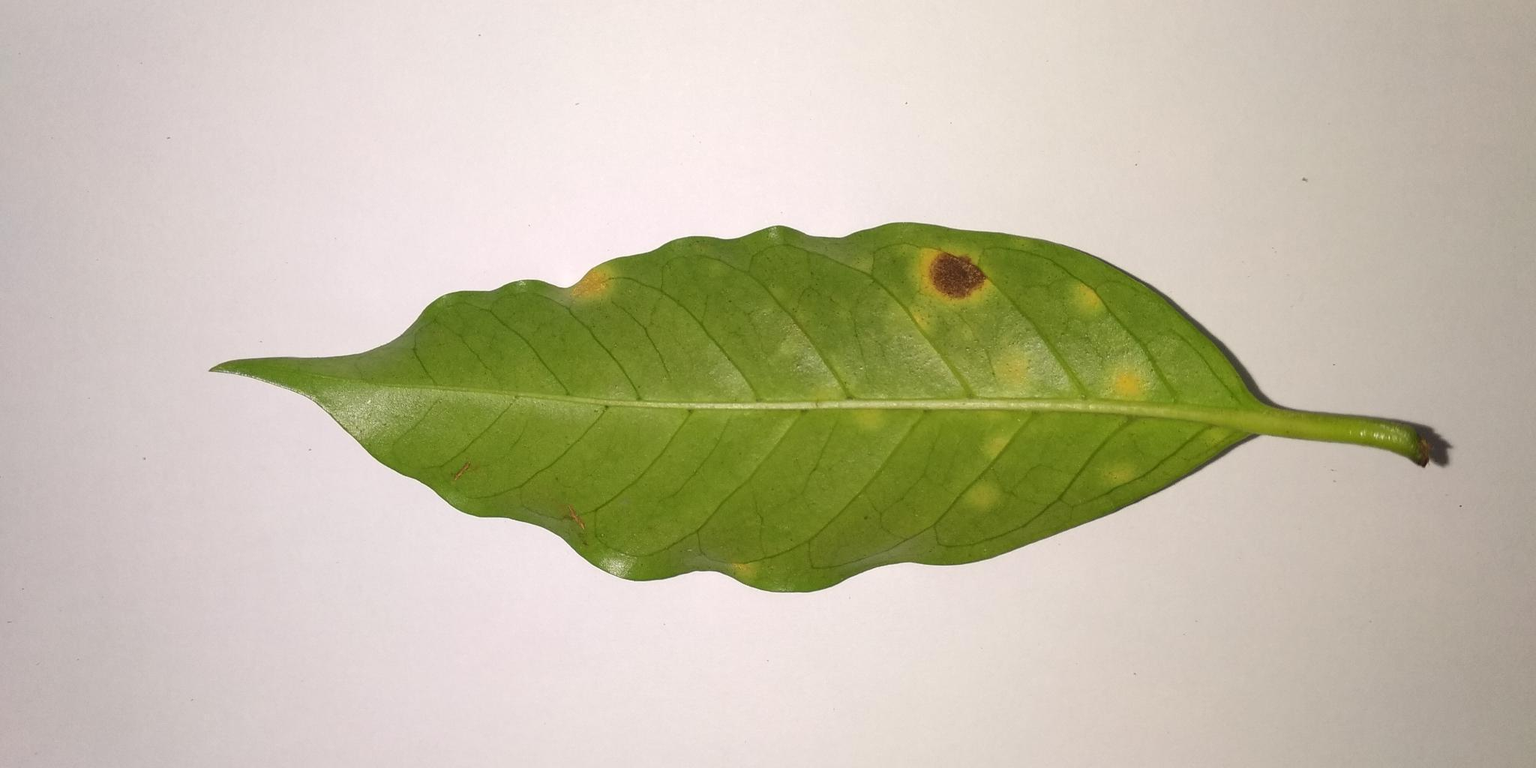Cercospora: (908, 240, 998, 311)
